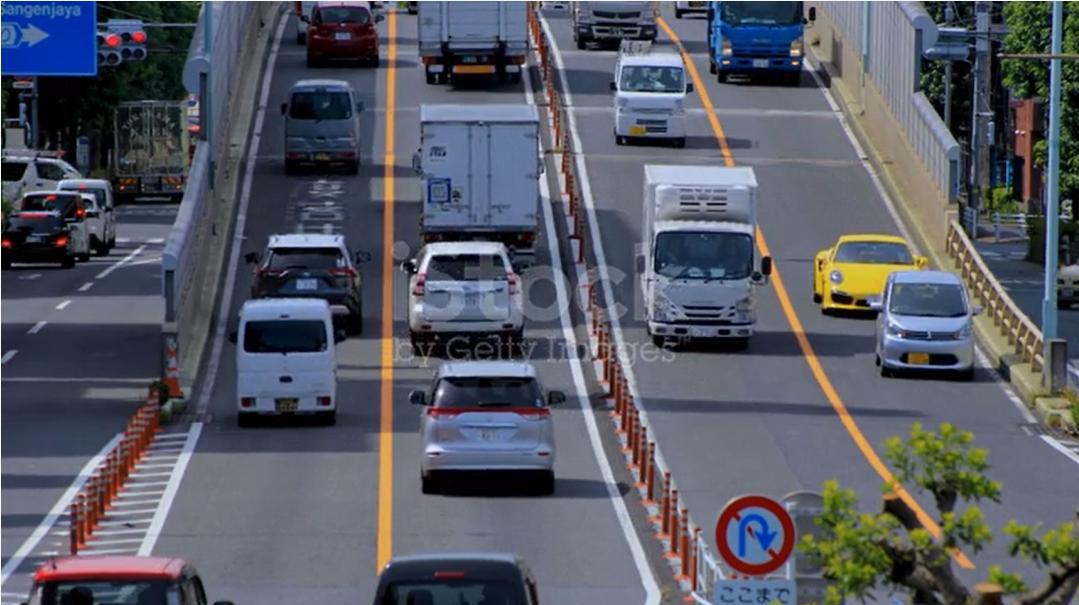car: (397, 347, 579, 502), (387, 232, 567, 365), (227, 292, 371, 444), (857, 259, 997, 392), (802, 221, 936, 335), (247, 231, 374, 341), (279, 66, 369, 198), (601, 46, 701, 159), (289, 8, 401, 71)
truck: (622, 141, 787, 396), (412, 92, 562, 280), (415, 0, 547, 87), (698, 0, 824, 82), (570, 0, 663, 48)
